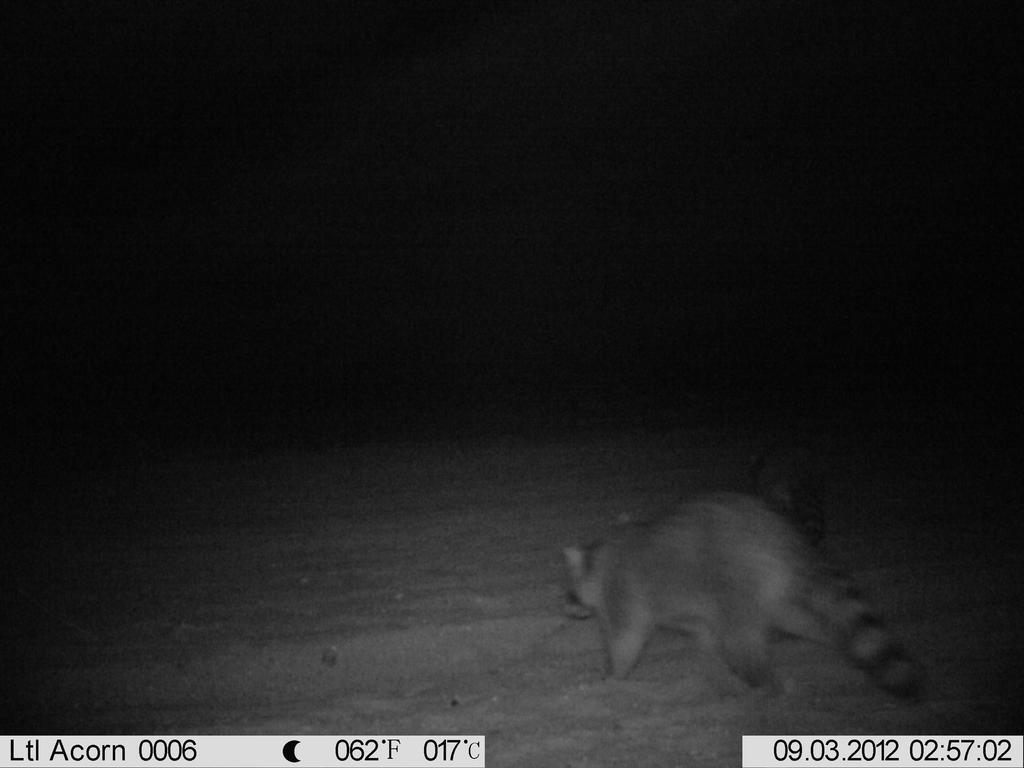raccoon: (546, 492, 927, 713)
